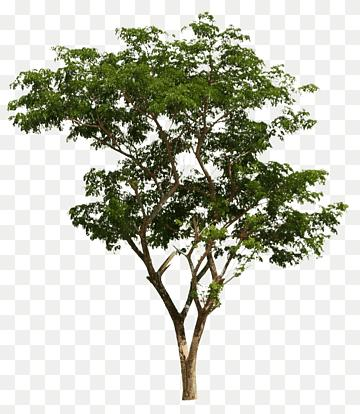tree: (9, 13, 350, 401)
